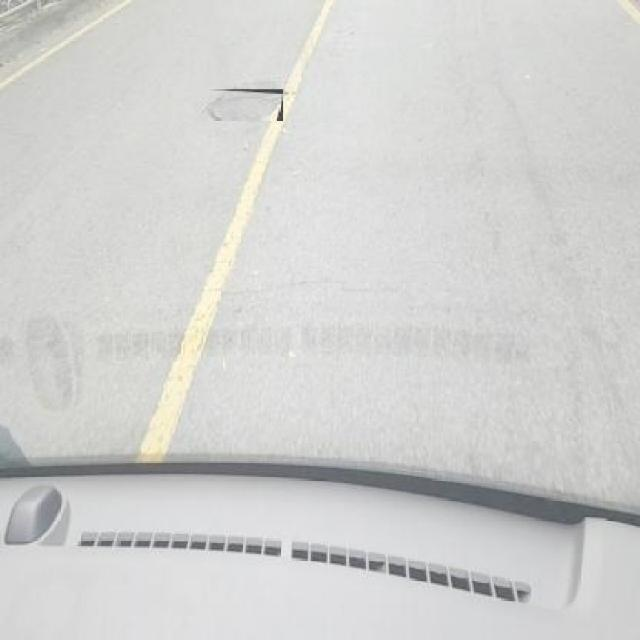Manhole: (208, 88, 283, 121)
